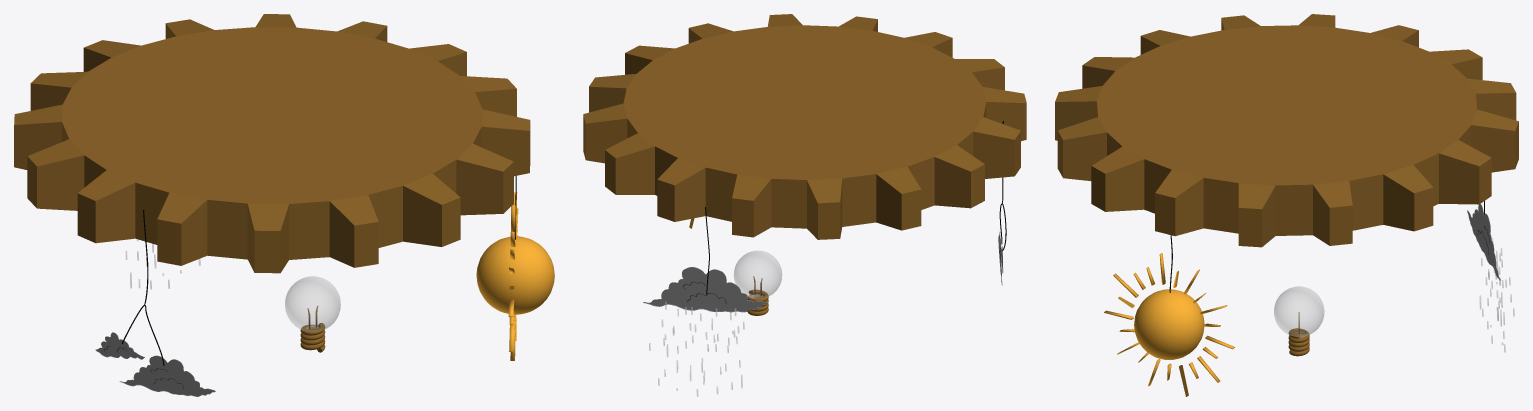
The model's file is light_bulb.glb.
3 views of the same model, side by side, from view 1: azimuth 30°, elevation 25°; view 2: azimuth 150°, elevation 25°; view 3: azimuth 270°, elevation 25° (orthographic). The views are drawn at different scales.
Visible parts, largest first — view 1: crank, Clear, Clouds, bulb, bulbHolder; view 2: crank, Rain, bulb, raindrops, bulbHolder; view 3: crank, Clear, bulb, Rain, raindrops, bulbHolder.
Boxes of the visible parts, box(x1,y1,x2,y2) form: crank: box(14, 14, 530, 273); Clear: box(476, 192, 554, 360); Clouds: box(95, 332, 215, 396); bulb: box(285, 276, 340, 331); bulbHolder: box(300, 323, 325, 352); crank: box(583, 14, 1026, 239); Rain: box(643, 267, 768, 312); bulb: box(733, 250, 782, 299); raindrops: box(649, 302, 744, 396); bulbHolder: box(747, 289, 768, 315); crank: box(1055, 14, 1518, 247); Clear: box(1104, 253, 1234, 396); bulb: box(1274, 286, 1324, 337); Rain: box(1467, 204, 1500, 280); raindrops: box(1479, 238, 1514, 352); bulbHolder: box(1288, 328, 1309, 356).
Bounding box in the file's own units: 33.71 × 18.8 × 33.85.
